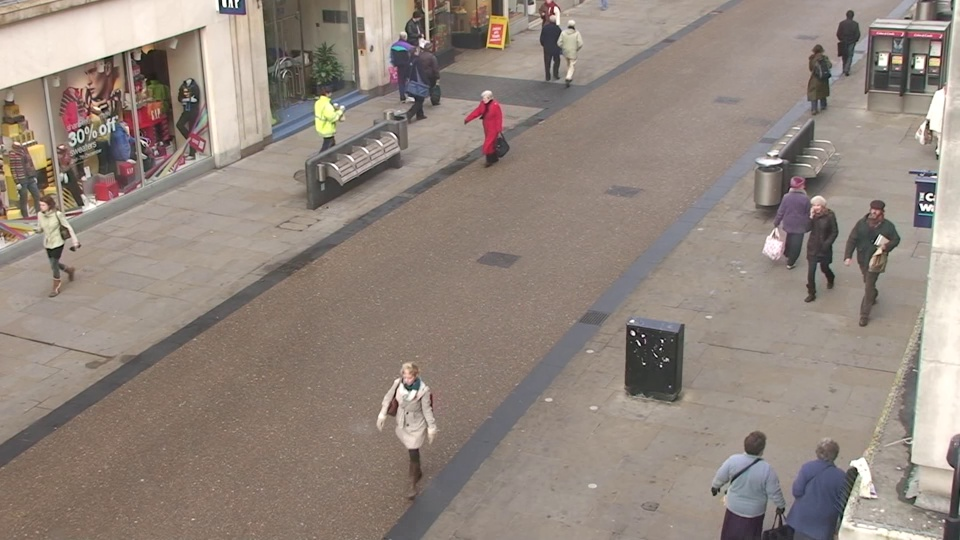pedestrian: (386, 355, 440, 511), (720, 419, 782, 540), (791, 425, 855, 540), (26, 190, 81, 303), (848, 195, 896, 314), (793, 191, 836, 307), (774, 170, 815, 280), (311, 80, 343, 165), (474, 87, 504, 175), (799, 41, 831, 119), (831, 8, 862, 79), (402, 43, 430, 118), (416, 38, 442, 112), (392, 28, 418, 99), (561, 16, 584, 85), (407, 9, 431, 75), (541, 11, 564, 77)
